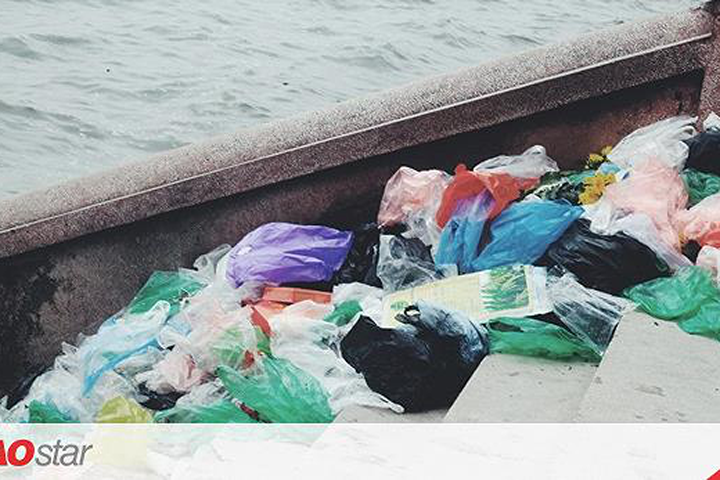plastic bag: (1, 111, 720, 422)
